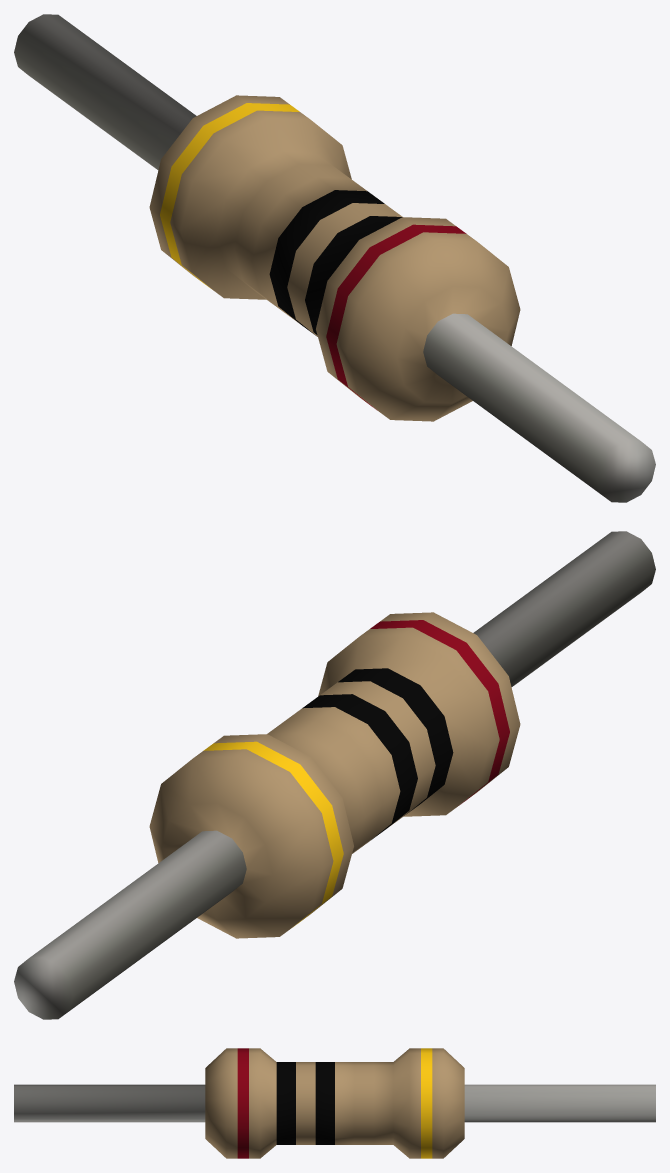
File: resistor.fbx
3 views of the same model, one above another, from view 1: azimuth 30°, elevation 25°; view 2: azimuth 150°, elevation 25°; view 3: azimuth 270°, elevation 25° (orthographic). The views are drawn at different scales.
Visible parts, largest first — view 1: Cylinder; view 2: Cylinder; view 3: Cylinder.
Boxes of the visible parts, x1,y1,x2,y2 form: Cylinder: [14, 14, 655, 502]; Cylinder: [14, 531, 655, 1019]; Cylinder: [14, 1048, 655, 1158].
Size of the model in its own units: 265 by 265 by 1543.
1 material, 1 textured.
